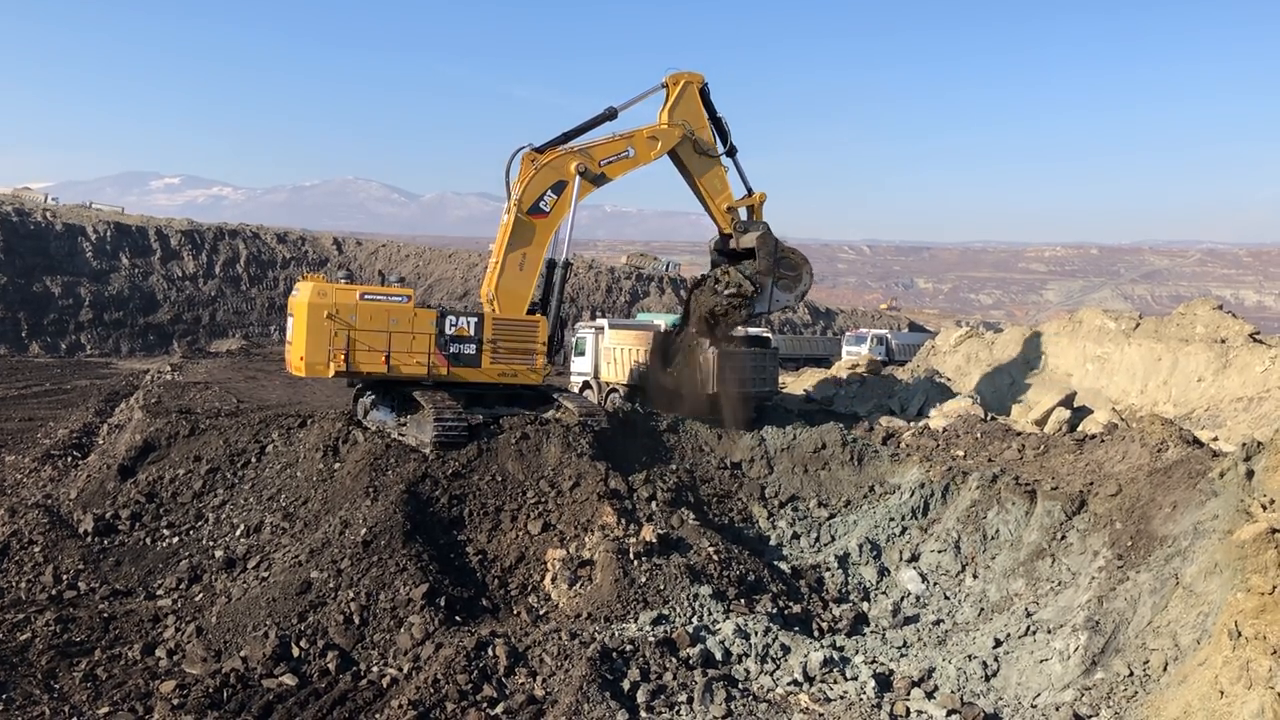full: (675, 213, 818, 325)
